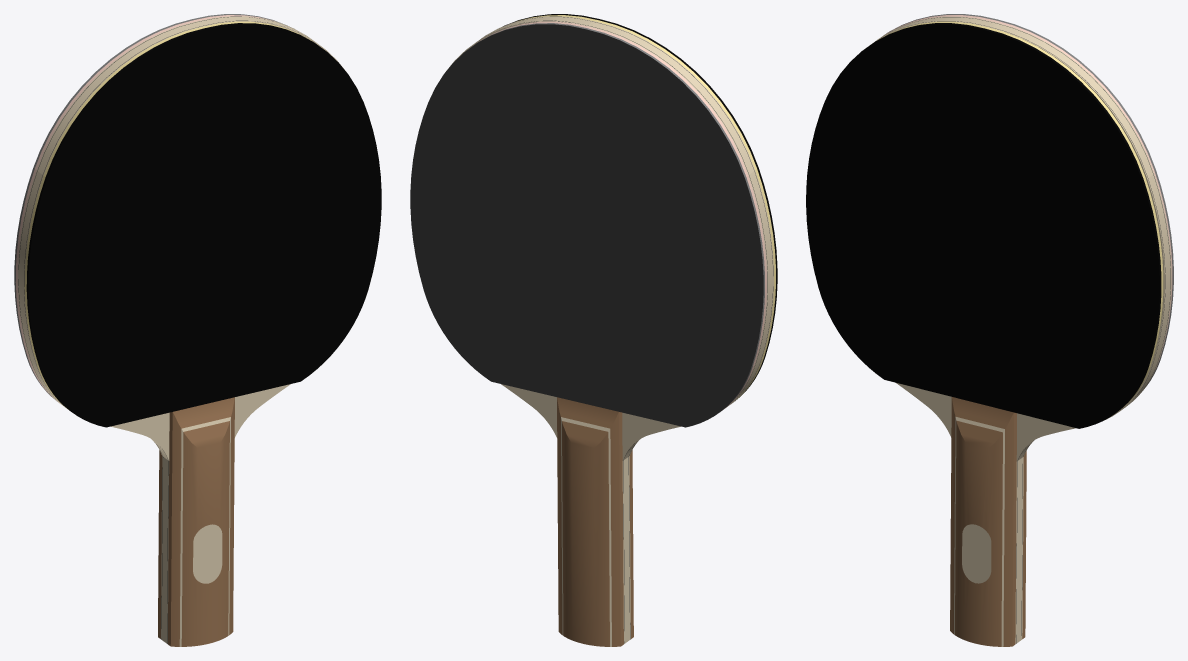
3 renders of one model, left to right at view 1: azimuth 30°, elevation 25°; view 2: azimuth 150°, elevation 25°; view 3: azimuth 330°, elevation 25°, orthographic.
Parts seen in each view (by area): view 1: paddle.json; view 2: paddle.json; view 3: paddle.json.
Part boxes in pixels (left/top/right/bottom): paddle.json: left=14, top=14, right=381, bottom=646; paddle.json: left=410, top=14, right=777, bottom=646; paddle.json: left=806, top=14, right=1173, bottom=646.
Bounding box in the file's own units: 11.82 × 19.43 × 1.49.
